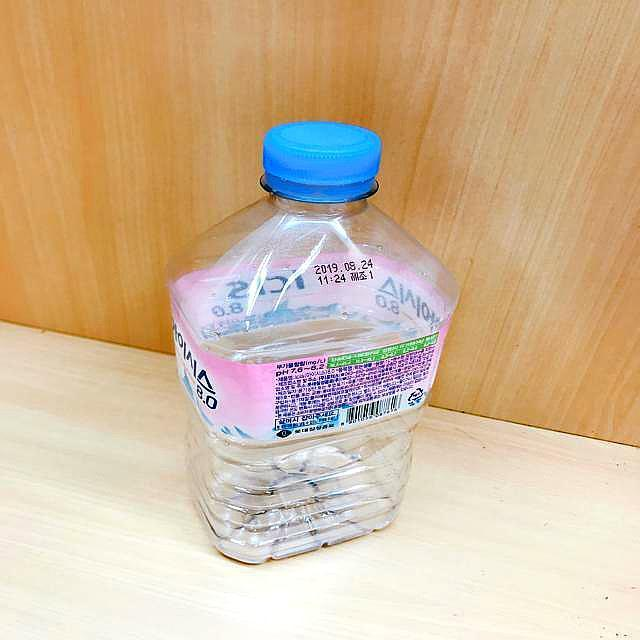Non-biodegradable: (163, 115, 465, 565)
